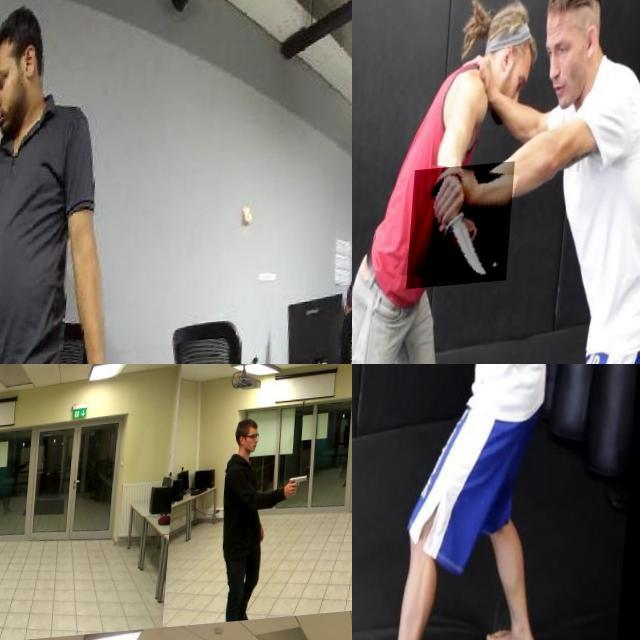-: (412, 167, 518, 293), (393, 364, 470, 390)
gun-knife-thesis - v11 Yolov5 augmented: (286, 481, 312, 510), (0, 480, 10, 500)
